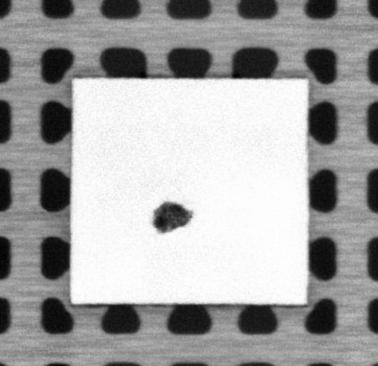DIE_INK: (148, 199, 195, 236)
